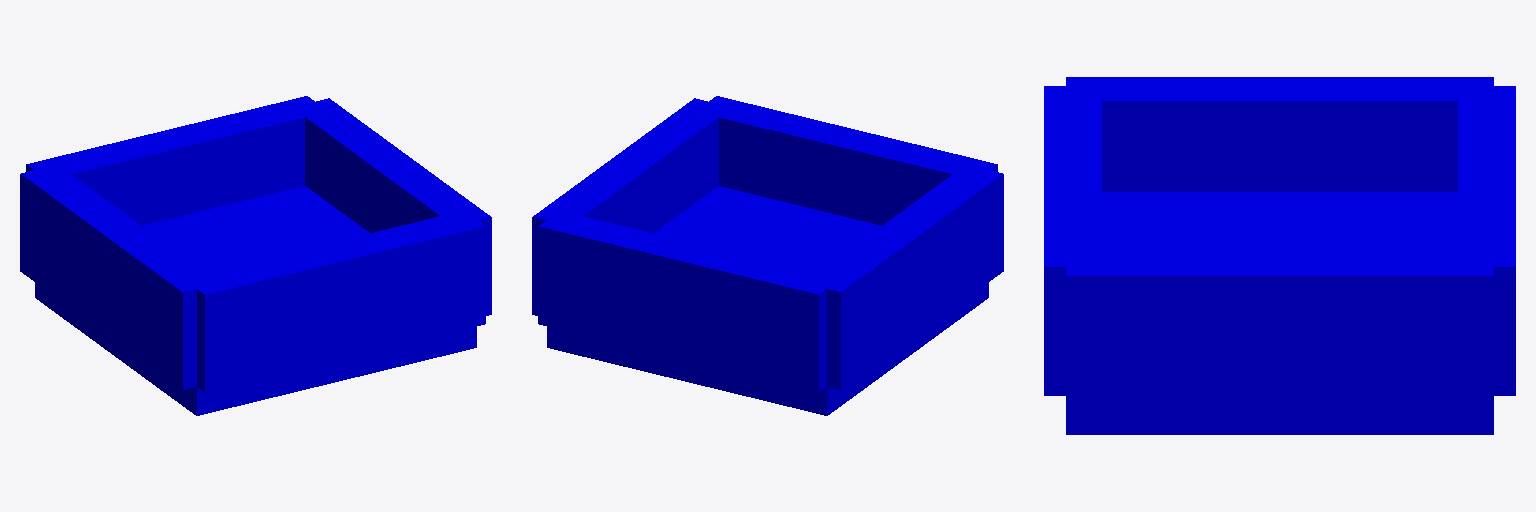
robot.urdf — cube.urdf:
<?xml version="0.0" ?>
<robot name="cube.urdf">
  <link name="base">
    <inertial>
      <origin rpy="0 0 0" xyz="0 0 0"/>
      <mass value="0.001"/>
      <inertia ixx="-4.46E-06" ixy="-4.55E-07" ixz="1.95E-06" iyy="-2.47E-06" iyz="8.51E-08" izz="2.17E-06"/>
    </inertial>
    <visual>
      <origin rpy="0 0 0" xyz="0 0 -0.025"/>
      <geometry>
        <box size=".15 .15 0.03"/>
      </geometry>
      <material name="blue">
      </material> 
    </visual>
    <collision>
      <origin rpy="0 0 0" xyz="0 0 -0.025"/>
      <geometry>
        <box size=".15 .15 0.03"/>
      </geometry>
    </collision>
  </link>

  <link name="left">
    <inertial>
      <origin rpy="0 0 0" xyz="0 0 0"/>
      <mass value="0.001"/>
      <inertia ixx="-4.46E-06" ixy="-4.55E-07" ixz="1.95E-06" iyy="-2.47E-06" iyz="8.51E-08" izz="2.17E-06"/>
    </inertial>
    <visual>
      <origin rpy="0 0 0" xyz="0.0725 0.0 0"/>
      <geometry>
        <box size=".02 .15 0.05"/>
      </geometry>
      <material name="blue">
      </material> 
    </visual>
    <collision>
      <origin rpy="0 0 0" xyz="0.0725 0 0"/>
      <geometry>
        <box size=".02 .15 0.05"/>
      </geometry>
    </collision>
  </link>

  <joint name="left_joint" type="fixed">
    <origin rpy="0 0 0" xyz="0 0 0"/>
    <parent link="base"/>
    <child link="left"/>
  </joint>

  <link name="right">
    <inertial>
      <mass value="0.001"/>
      <inertia ixx="-4.46E-06" ixy="-4.55E-07" ixz="1.95E-06" iyy="-2.47E-06" iyz="8.51E-08" izz="2.17E-06"/>
    </inertial>
    <visual>
      <origin rpy="0 0 0" xyz="-0.0725 0.0 0"/>
      <geometry>
        <box size=".02 .15 0.05"/>
      </geometry>
      <material name="blue">
      </material> 
    </visual>
    <collision>
      <origin rpy="0 0 0" xyz="-0.0725 0 0"/>
      <geometry>
        <box size=".02 .15 0.05"/>
      </geometry>
    </collision>
  </link>

  <joint name="right_joint" type="fixed">
    <origin rpy="0 0 0" xyz="0 0 0"/>
    <parent link="base"/>
    <child link="right"/>
  </joint>

  <link name="front">
    <inertial>
      <mass value="0.001"/>
      <inertia ixx="-4.46E-06" ixy="-4.55E-07" ixz="1.95E-06" iyy="-2.47E-06" iyz="8.51E-08" izz="2.17E-06"/>
    </inertial>
    <visual>
      <origin rpy="0 0 0" xyz="0 0.0725 0"/>
      <geometry>
        <box size=".15 .02 0.05"/>
      </geometry>
      <material name="blue">
      </material> 
    </visual>
    <collision>
      <origin rpy="0 0 0" xyz="0 0.0725 0"/>
      <geometry>
        <box size=".15 .02 0.05"/>
      </geometry>
    </collision>
  </link>

  <joint name="front_joint" type="fixed">
    <origin rpy="0 0 0" xyz="0 0 0"/>
    <parent link="base"/>
    <child link="front"/>
  </joint>

  <link name="rear">
    <inertial>
      <mass value="0.001"/>
      <inertia ixx="-4.46E-06" ixy="-4.55E-07" ixz="1.95E-06" iyy="-2.47E-06" iyz="8.51E-08" izz="2.17E-06"/>
    </inertial>
    <visual>
      <origin rpy="0 0 0" xyz="0 -0.0725 0"/>
      <geometry>
        <box size=".15 .02 0.05"/>
      </geometry>
      <material name="blue">
      </material> 
    </visual>
    <collision>
      <origin rpy="0 0 0" xyz="0 -0.0725 0"/>
      <geometry>
        <box size=".15 .02 0.05"/>
      </geometry>
    </collision>
  </link>

  <joint name="rear_joint" type="fixed">
    <origin rpy="0 0 0" xyz="0 0 0"/>
    <parent link="base"/>
    <child link="rear"/>
  </joint>


  <material name="panda_white">
    <color rgba="1. 1. 1. 1."/>
  </material>
  <material name="red">
    <color rgba="1.0 0. 0. 1.0"/>
  </material>
  <material name="blue">
    <color rgba="0. 0. 1. 1.0"/>
  </material>
  <material name="green">
    <color rgba="0. 1. 0. 1.0"/>
  </material>
<material name="Yellow">
  <color rgba="0.949 0.878 0.0392 1.0"/>
</material>
<material name="Blue">
  <color rgba="0.12156 0.3804 0.6745 1.0"/>
</material>
<material name="Red">
  <color rgba="0.9254901 0.243137 0.086274509 1.0"/>
</material>
</robot>

--- What the picture shows (computed from the rendered views, not written in the file) ---
3 views of the same robot in one strip: view 1: azimuth 30°, elevation 25°; view 2: azimuth 150°, elevation 25°; view 3: azimuth 270°, elevation 25° (orthographic).
Robot: cube.urdf — 5 links, 4 joints (4 fixed); root link base; default pose: every joint at zero.
Links seen in each view (by area): view 1: rear, right, front, base, left; view 2: front, right, rear, base, left; view 3: left, right, base, front, rear.
Link boxes in pixels (x1,y1,x2,y2): rear: [185, 211, 485, 392]; right: [20, 167, 215, 389]; front: [26, 96, 320, 225]; base: [35, 186, 476, 415]; left: [293, 98, 491, 315]; front: [538, 211, 838, 392]; right: [806, 167, 1003, 389]; rear: [695, 96, 997, 225]; base: [547, 186, 988, 415]; left: [532, 98, 731, 315]; left: [1066, 252, 1493, 404]; right: [1066, 77, 1493, 191]; base: [1066, 192, 1493, 434]; front: [1458, 86, 1515, 395]; rear: [1044, 86, 1101, 395].
Bounding box of the posed robot: 0.165 × 0.165 × 0.065 m (x, y, z).
Geometry: primitives only (box / cylinder / sphere), no mesh files.